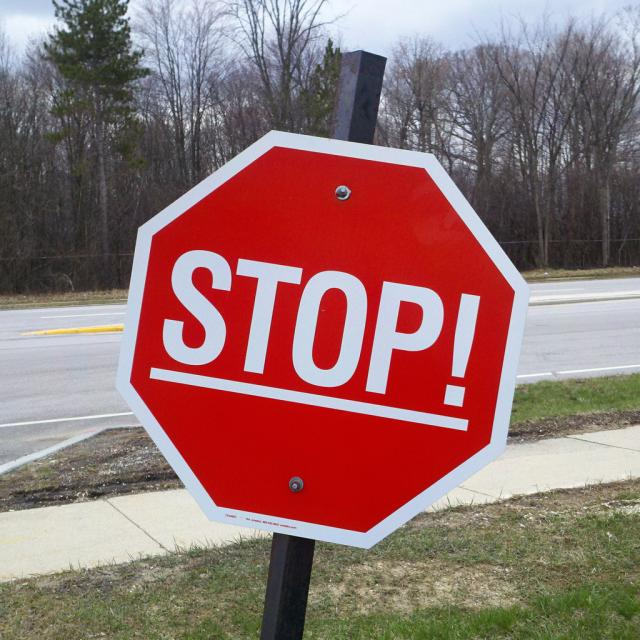Stop-sign: (118, 127, 536, 549)
